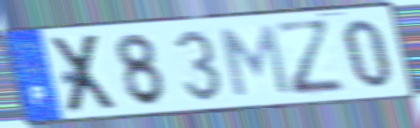0: (339, 17, 396, 91)
3: (168, 27, 225, 104)
8: (114, 32, 170, 108)
M: (217, 22, 293, 99)
X: (48, 31, 122, 116)
Z: (270, 17, 350, 99)
